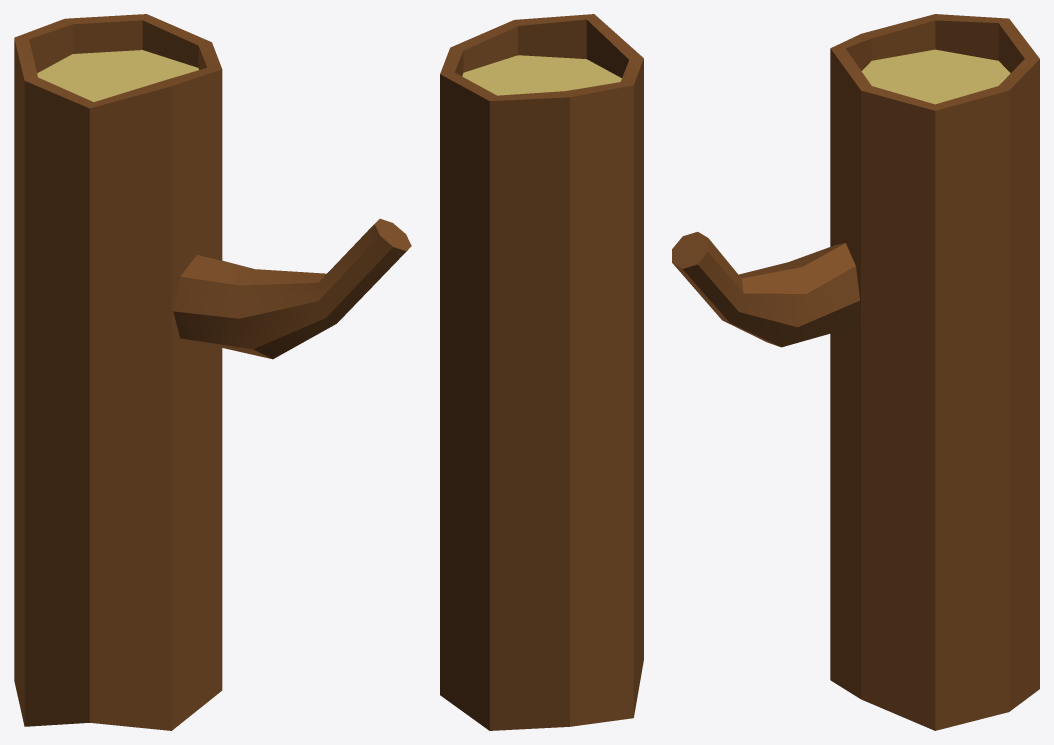
File: Log.fbx
3 renders of one model, left to right at view 1: azimuth 30°, elevation 25°; view 2: azimuth 150°, elevation 25°; view 3: azimuth 270°, elevation 25°, orthographic. The views are drawn at different scales.
Visible parts, largest first — view 1: Log; view 2: Log; view 3: Log.
Boxes of the visible parts, x1,y1,x2,y2 form: Log: (14, 14, 411, 730); Log: (440, 14, 643, 730); Log: (672, 14, 1039, 730).
Size of the model in its own units: 351 by 846 by 438.
